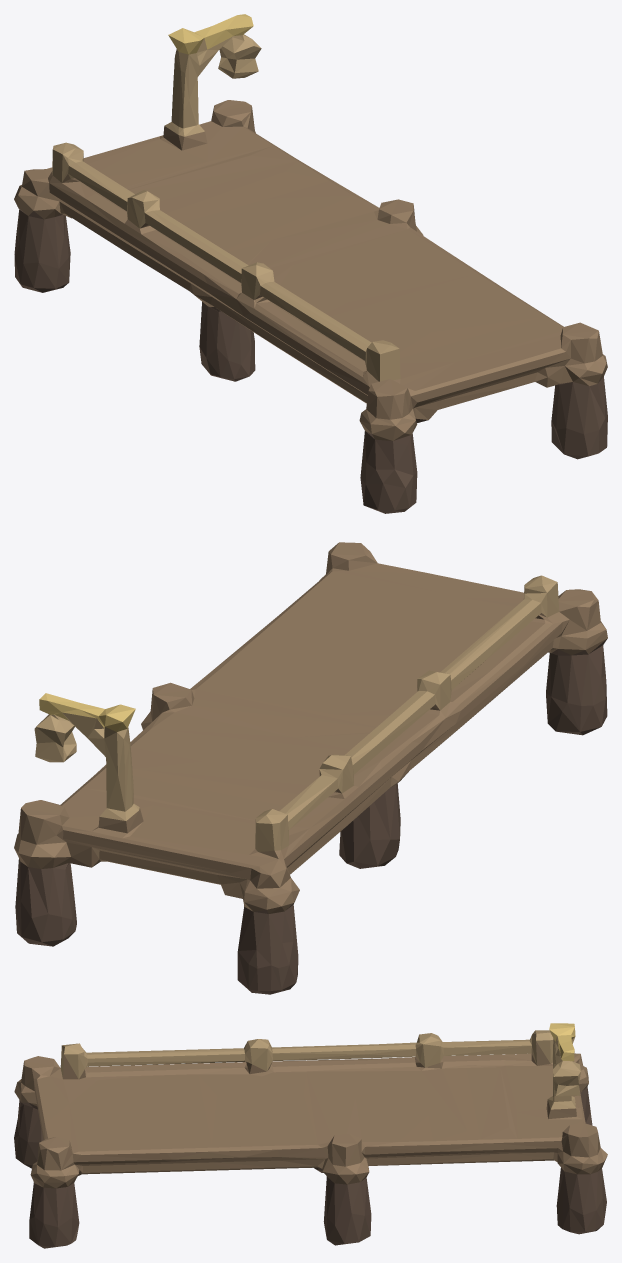
Rendered from dock.glb.
The picture shows the model from 3 angles, top to bottom: view 1: azimuth 30°, elevation 25°; view 2: azimuth 150°, elevation 25°; view 3: azimuth 270°, elevation 25°; orthographic projection. The views are drawn at different scales.
Parts seen in each view (by area): view 1: dock; view 2: dock; view 3: dock.
Boxes of the visible parts, x1,y1,x2,y2 form: dock: (14,14,607,513); dock: (14,542,607,994); dock: (14,1023,607,1248).
Bounding box in the file's own units: 3.5 × 2.6 × 7.7.
